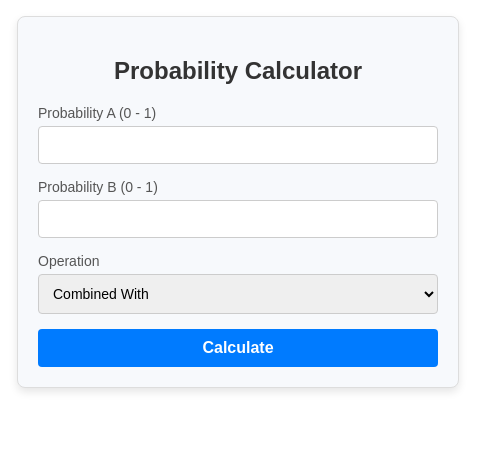
Test case: ProbabilityCalculator › submits form and displays result on success CombinedWith
The width and height of the screenshot is (477, 476).
Type "0.5" into the number field labelled "Probability A (0 - 1)" at (238, 145), box [38,126,438,164]
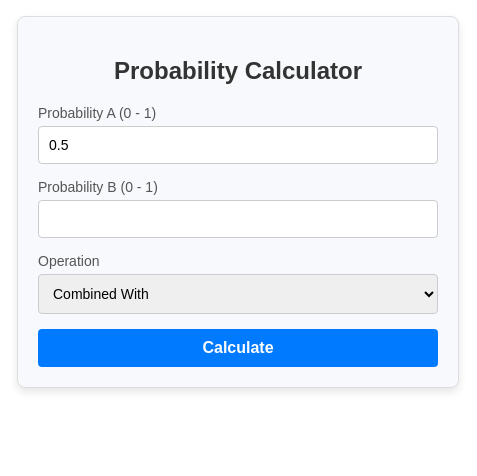
Type "0.5" into the number field labelled "Probability B (0 - 1)" at (238, 219), box [38,200,438,238]
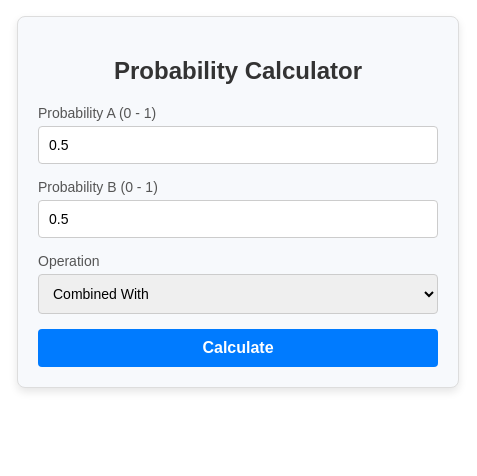
Select "Combined With" in the dropdown labelled "Operation" at (238, 294), box [38,274,438,314]
Click the button "Calculate" at (238, 348), box [38,329,438,367]
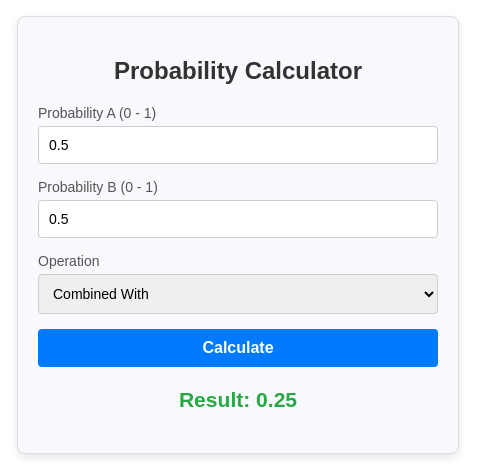
Expected: the heading "Result: 0.25" is shown, [179,388,297,411]
